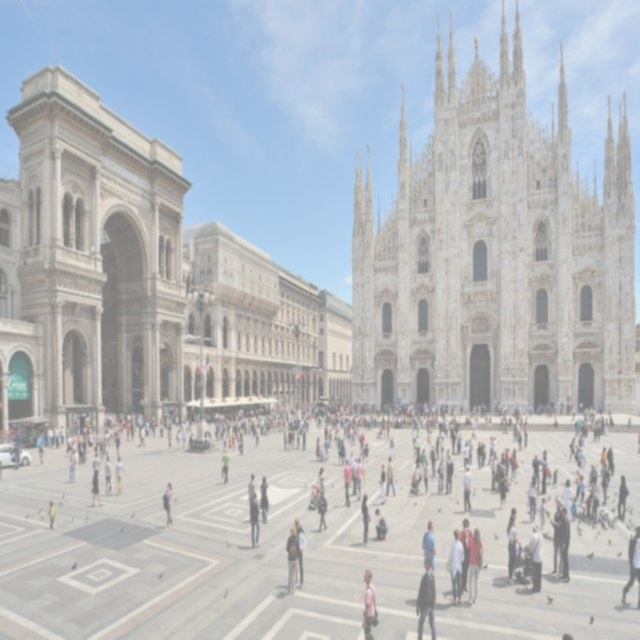pessoa: (438, 398, 618, 450), (158, 390, 352, 436), (352, 396, 438, 444), (103, 400, 158, 454), (416, 554, 438, 640), (620, 522, 640, 612), (65, 413, 104, 458), (522, 518, 544, 596), (444, 528, 465, 606), (464, 526, 484, 606), (456, 516, 476, 594), (360, 566, 379, 640), (284, 524, 302, 596), (506, 512, 522, 586), (557, 506, 572, 584), (550, 498, 564, 580), (421, 519, 438, 574), (294, 516, 306, 590), (526, 474, 541, 526), (249, 491, 261, 550), (161, 481, 174, 532), (617, 474, 630, 522), (562, 478, 576, 522), (258, 474, 270, 524), (32, 414, 59, 436), (316, 487, 328, 533), (360, 494, 370, 546), (374, 506, 388, 542), (384, 455, 396, 497), (590, 478, 602, 520), (462, 464, 472, 514), (497, 464, 508, 509), (90, 467, 102, 508), (343, 460, 353, 508), (114, 454, 125, 494), (600, 462, 610, 506), (436, 454, 446, 494), (444, 456, 454, 496), (532, 454, 542, 494), (378, 462, 387, 506), (227, 434, 245, 456), (220, 448, 230, 486), (356, 455, 364, 502), (91, 452, 102, 485), (203, 434, 222, 452), (70, 449, 80, 482), (577, 475, 588, 505), (104, 454, 112, 494), (575, 460, 583, 500), (422, 459, 431, 494), (428, 442, 436, 479), (538, 496, 546, 532), (414, 462, 422, 496), (490, 454, 497, 491), (510, 448, 518, 480), (606, 446, 614, 478), (570, 494, 579, 522), (48, 499, 56, 529), (352, 457, 358, 497), (600, 447, 608, 477), (362, 452, 368, 490), (248, 473, 256, 501), (348, 450, 356, 478), (388, 433, 396, 461), (420, 448, 428, 476), (507, 506, 517, 528), (464, 442, 471, 473), (358, 430, 366, 457), (539, 449, 550, 468), (568, 436, 576, 462), (504, 448, 511, 477), (316, 465, 326, 485), (589, 465, 598, 487), (323, 434, 330, 462), (450, 428, 457, 456), (480, 440, 487, 468), (68, 450, 74, 482), (138, 423, 145, 450), (38, 440, 45, 466), (476, 440, 482, 470), (316, 436, 324, 458), (308, 482, 316, 504), (499, 451, 506, 476), (46, 426, 53, 450), (222, 426, 228, 454), (411, 426, 418, 450), (456, 431, 463, 455), (332, 430, 340, 450), (54, 426, 61, 448), (363, 442, 370, 464), (552, 467, 559, 489), (435, 435, 441, 460), (488, 435, 493, 465), (282, 428, 288, 452), (440, 434, 446, 458), (337, 438, 342, 466), (115, 434, 121, 457), (301, 428, 307, 451), (341, 439, 346, 466), (468, 439, 473, 466), (66, 432, 72, 454), (124, 420, 130, 442), (492, 436, 498, 458), (167, 424, 172, 450), (560, 632, 576, 640), (136, 418, 142, 439), (158, 420, 164, 440), (176, 428, 181, 451), (188, 432, 194, 451), (374, 426, 382, 440), (444, 448, 452, 462), (130, 419, 135, 441), (255, 424, 260, 446), (348, 424, 353, 446), (471, 414, 476, 436), (474, 415, 480, 433), (182, 427, 186, 450), (416, 447, 420, 470), (288, 427, 292, 448), (291, 428, 295, 449), (60, 424, 64, 444), (296, 430, 300, 450), (324, 421, 328, 441), (626, 416, 632, 428), (318, 415, 322, 432), (328, 427, 332, 444), (387, 421, 390, 441), (638, 428, 640, 452), (310, 412, 312, 425)
